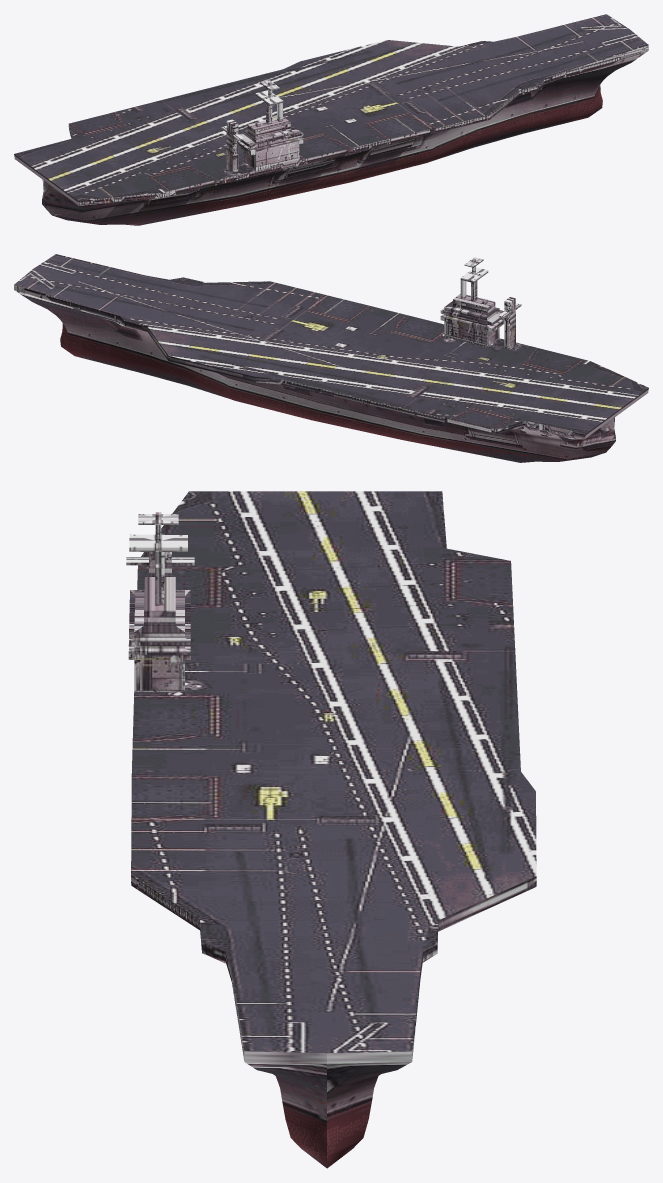
File: aircraft carrier01.FBX
3 views of the same model, one above another, from view 1: azimuth 30°, elevation 25°; view 2: azimuth 150°, elevation 25°; view 3: azimuth 270°, elevation 25° (orthographic). The views are drawn at different scales.
Parts seen in each view (by area): view 1: Box001; view 2: Box001; view 3: Box001.
Boxes of the visible parts, x1,y1,x2,y2 form: Box001: (14, 14, 648, 225); Box001: (14, 254, 648, 462); Box001: (126, 491, 536, 1168).
Bounding box in the file's own units: 141 × 34.75 × 43.14.
1 material, 1 textured.
